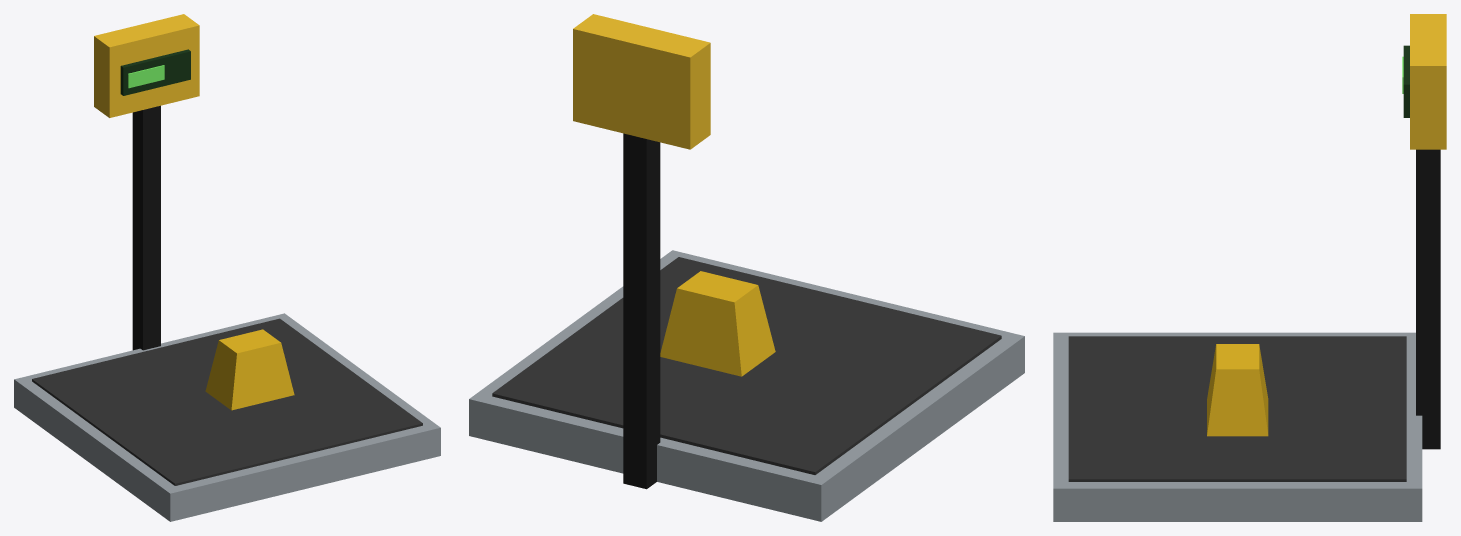
File: Mining_Scale.fbx
3 views of the same model, side by side, from view 1: azimuth 30°, elevation 25°; view 2: azimuth 150°, elevation 25°; view 3: azimuth 270°, elevation 25° (orthographic). The views are drawn at different scales.
Visible parts, largest first — view 1: Mining_Scale; view 2: Mining_Scale; view 3: Mining_Scale.
Boxes of the visible parts, <box> form: Mining_Scale: <box>14,14,440,521</box>; Mining_Scale: <box>469,14,1024,521</box>; Mining_Scale: <box>1053,14,1446,521</box>.
Bounding box in the file's own units: 1.2 × 1.45 × 1.28.
